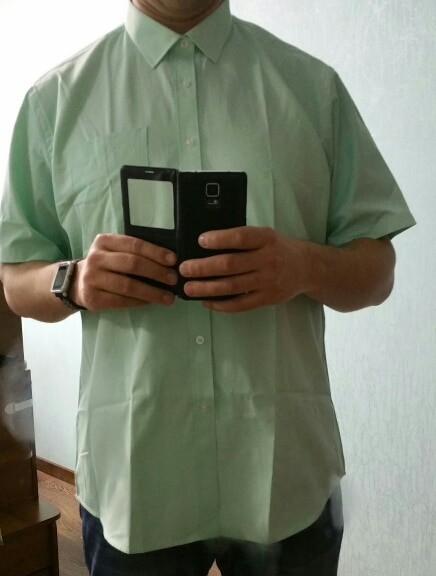shirts: (3, 6, 416, 550)
